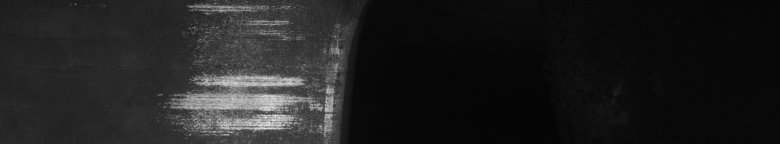kb: (236, 4, 328, 136)
